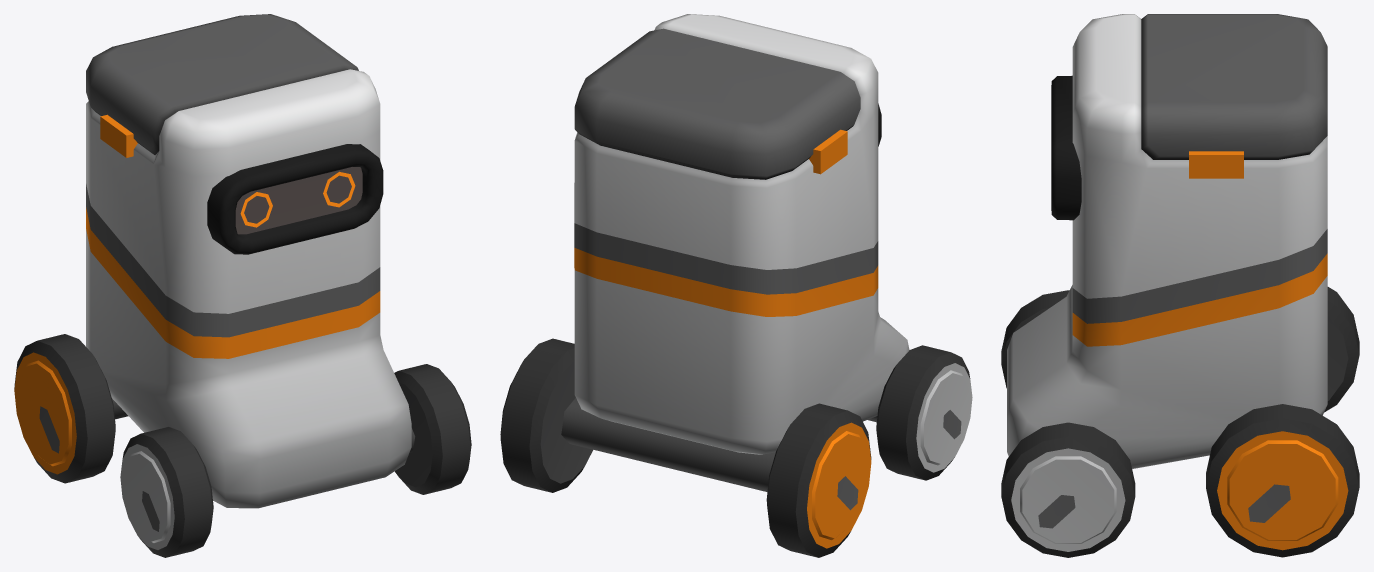
File: Delivery_drone_009.glb
The picture shows the model from 3 angles, left to right: view 1: azimuth 30°, elevation 25°; view 2: azimuth 150°, elevation 25°; view 3: azimuth 270°, elevation 25°; orthographic projection. The views are drawn at different scales.
Visible parts, largest first — view 1: Delivery_drone_009; view 2: Delivery_drone_009; view 3: Delivery_drone_009.
Part boxes in pixels (x1,y1,x2,y2): Delivery_drone_009: [14, 14, 471, 557]; Delivery_drone_009: [500, 14, 972, 557]; Delivery_drone_009: [1001, 14, 1359, 557].
Bounding box in the file's own units: 0.8166 × 1.05 × 0.7998.
Materials: 3 (2 with a texture image).
